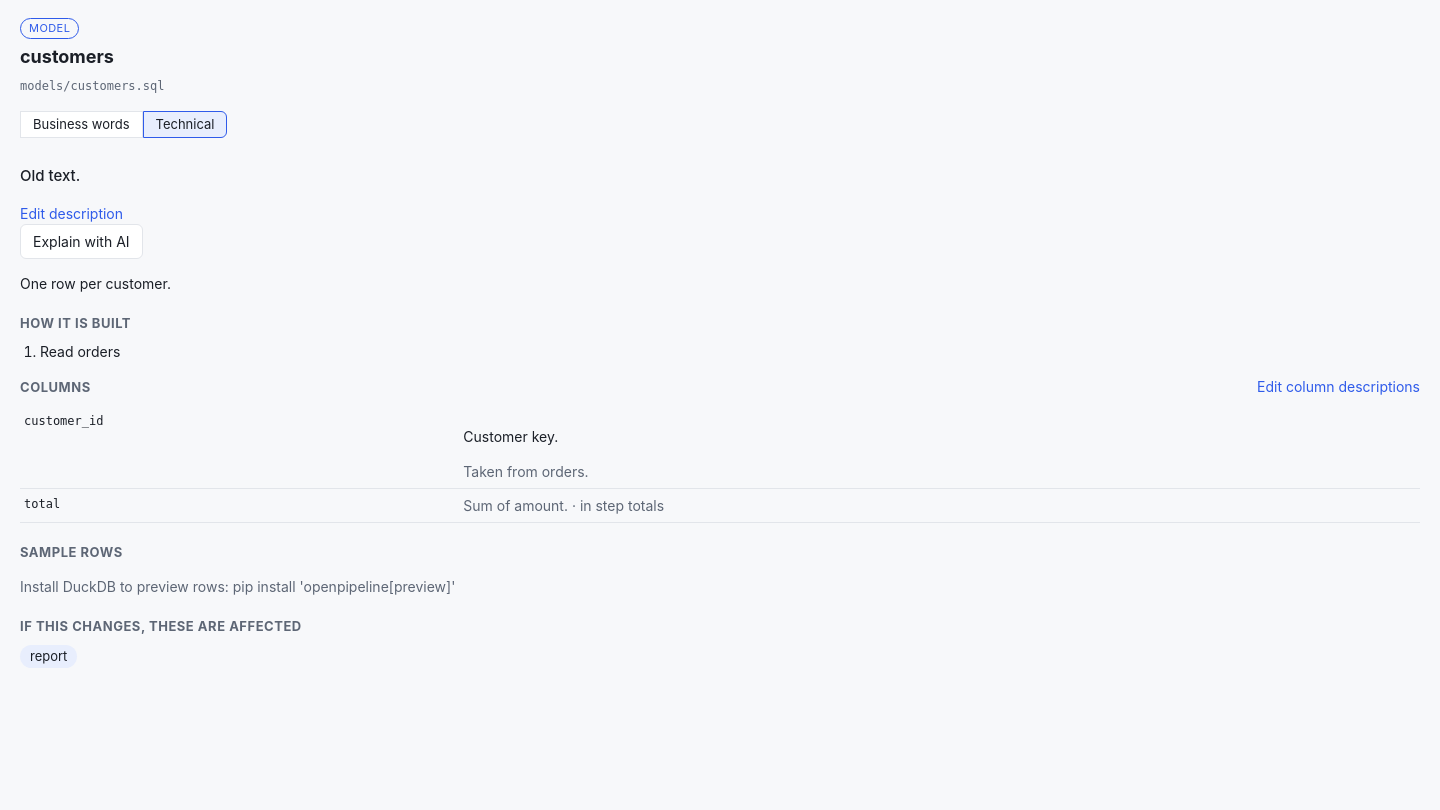
StoryPanel editing › shows documented column text and saves only what changed
This screenshot has width=1440, height=810.
Expected: the text "Customer key." is shown, [463,428,558,444]
Expected: the text "Sum of amount. · in step totals" is shown, [463,496,664,514]
Click the button "Edit column descriptions" at (1338, 386), box [1257,376,1420,397]
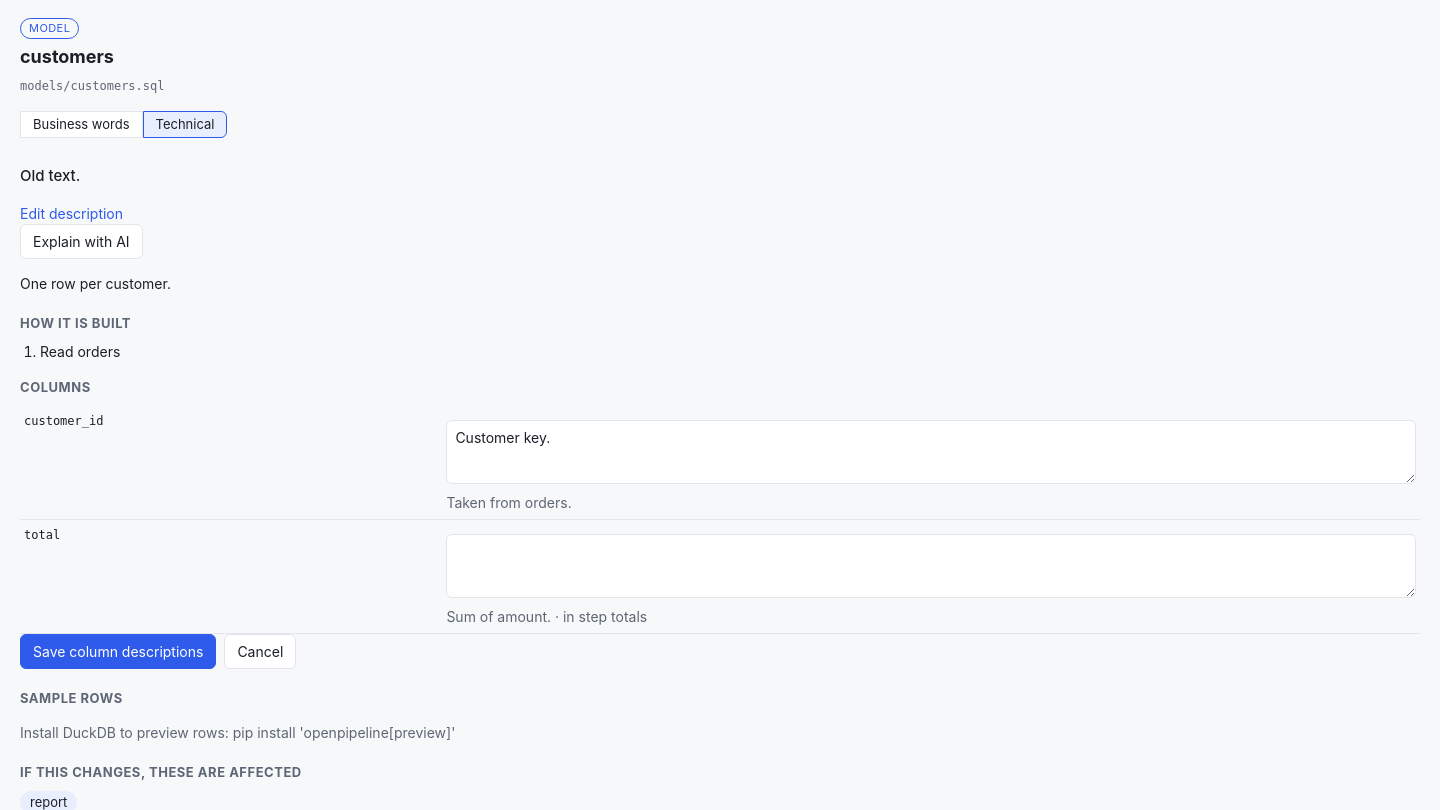
Type "Spend." into the text box named "Description for total" at (931, 566), box [446,534,1416,598]
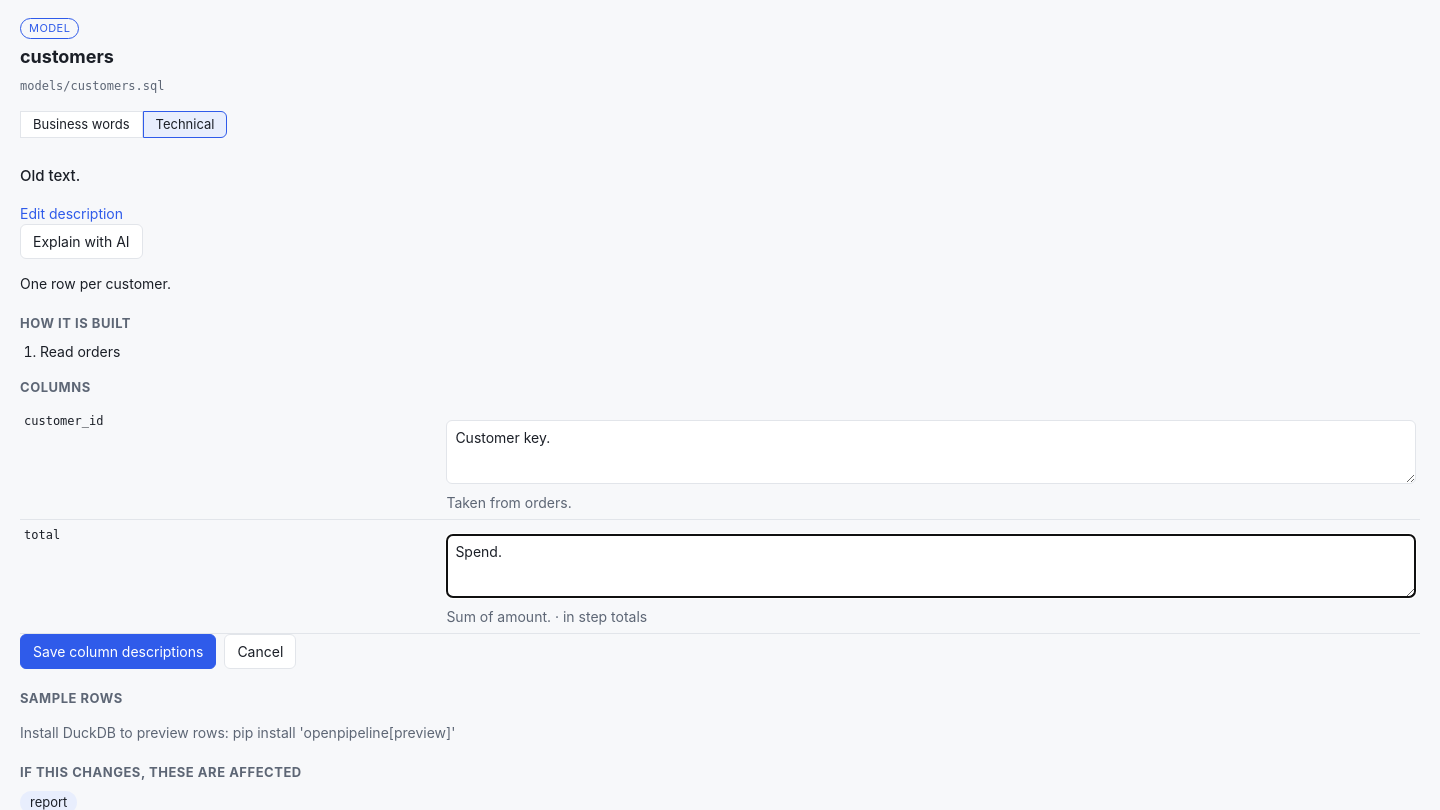
Click the button "Save column descriptions" at (118, 651), box [20,634,216,668]
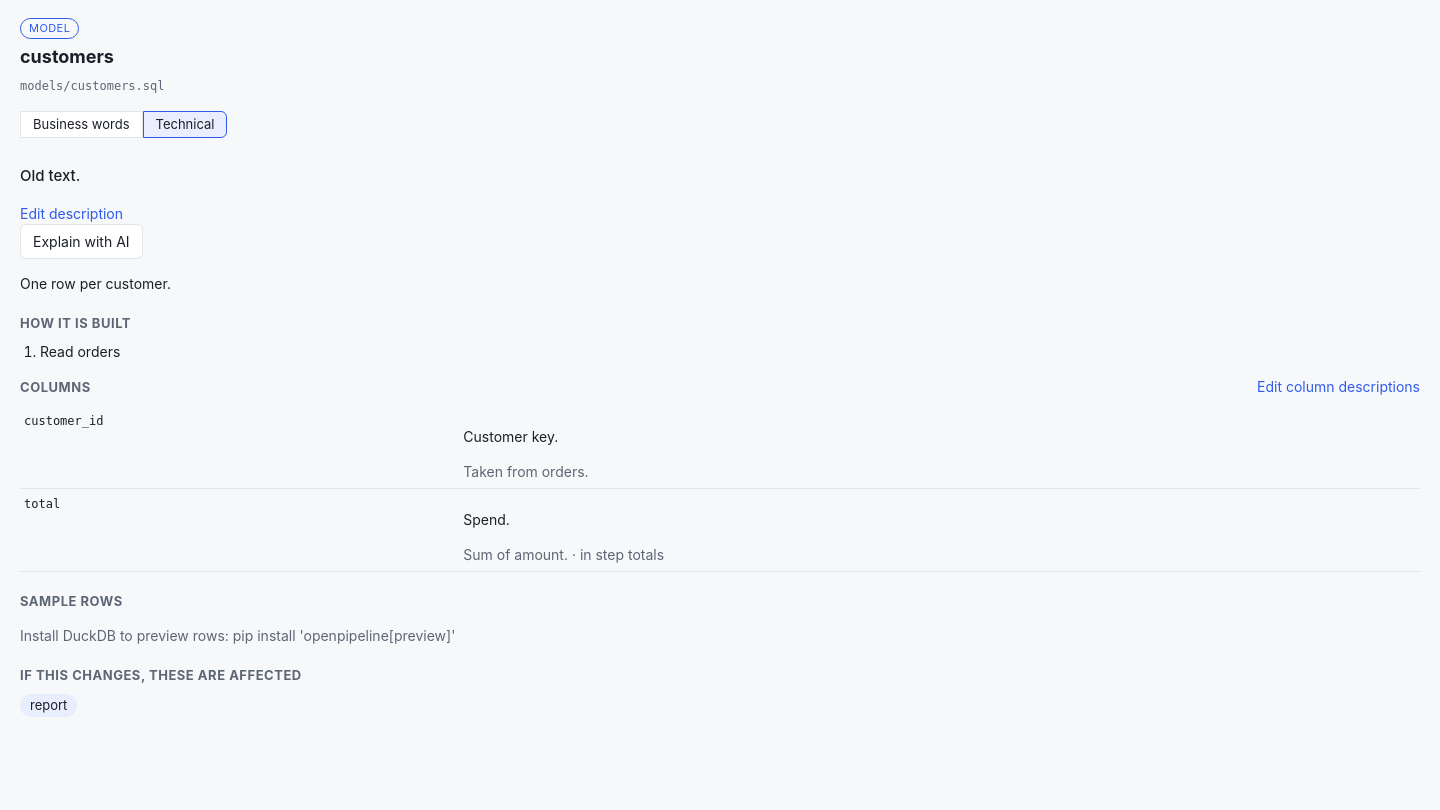
Result: the text "Spend." is shown at [463,510,510,528]
